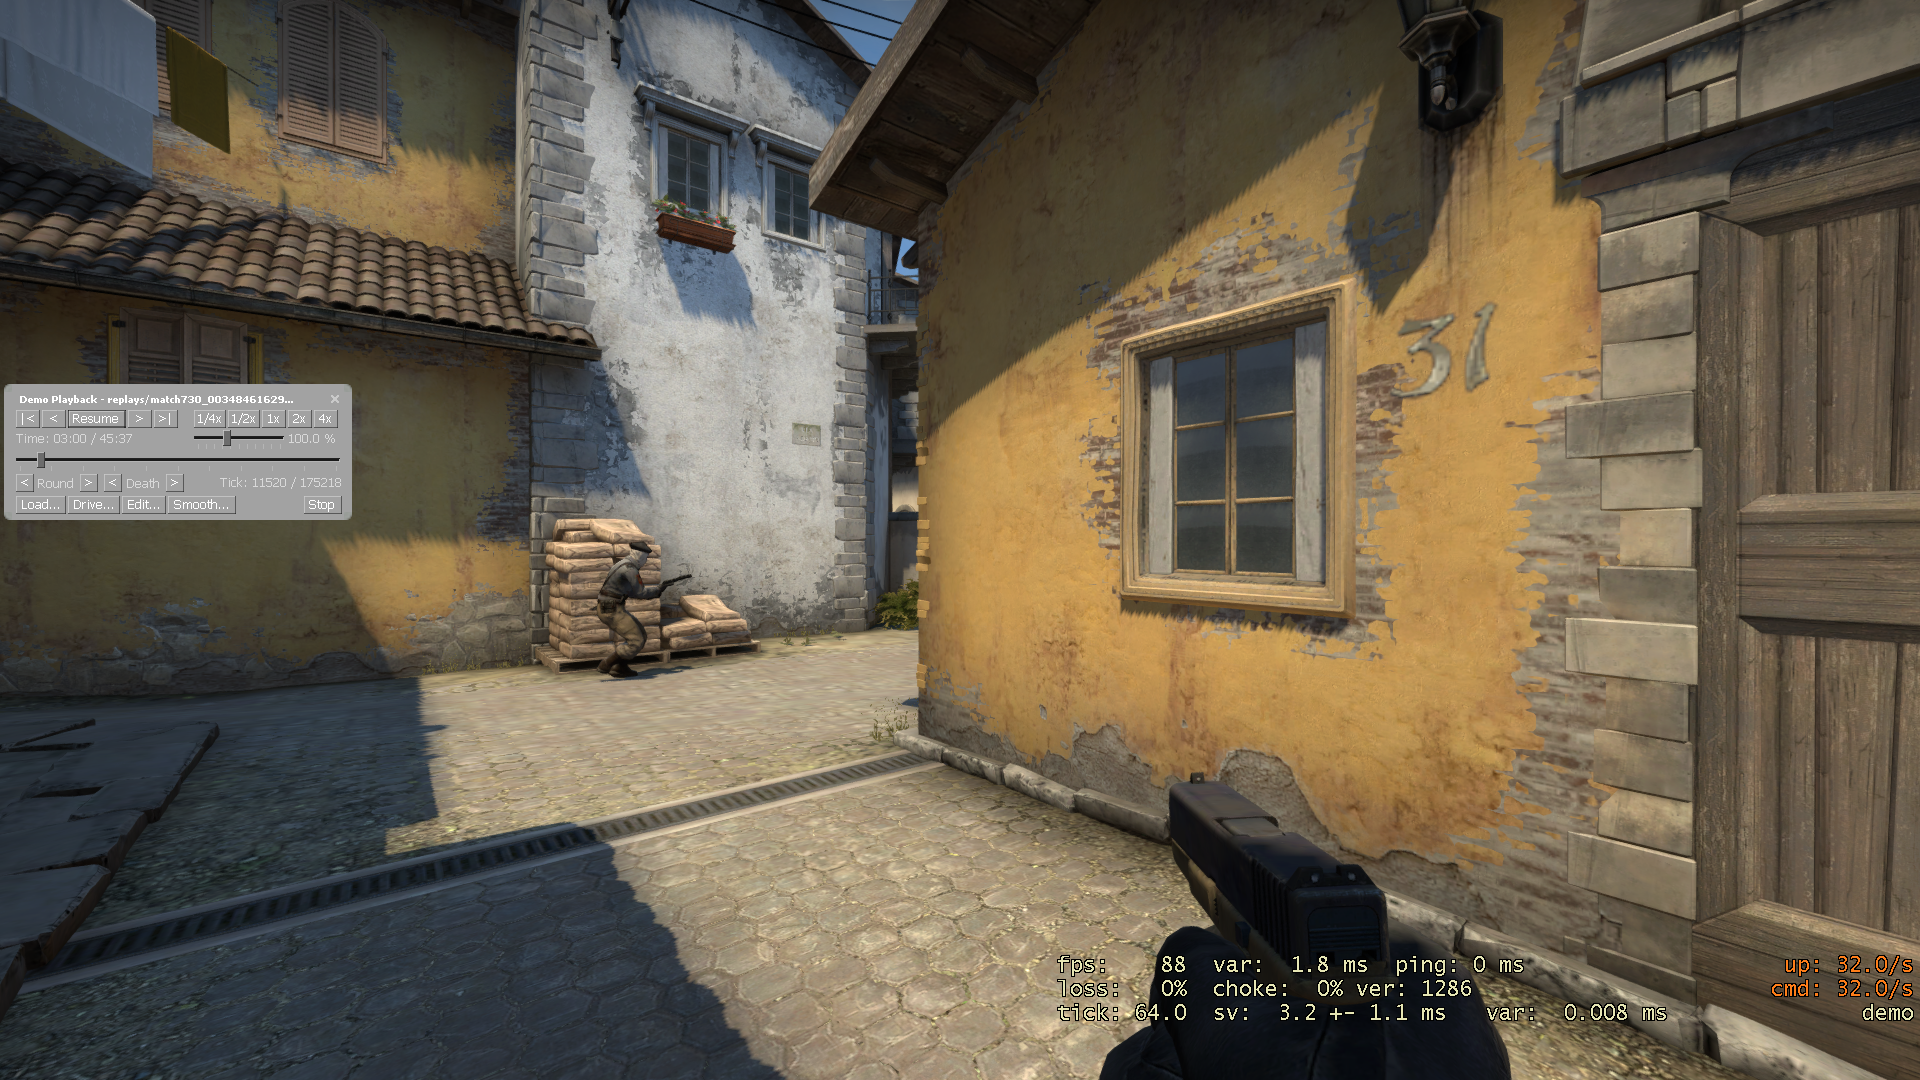t: (597, 541, 665, 678)
